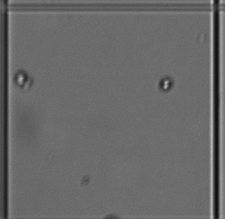Living Cell: (13, 71, 32, 89), (158, 75, 174, 91)
